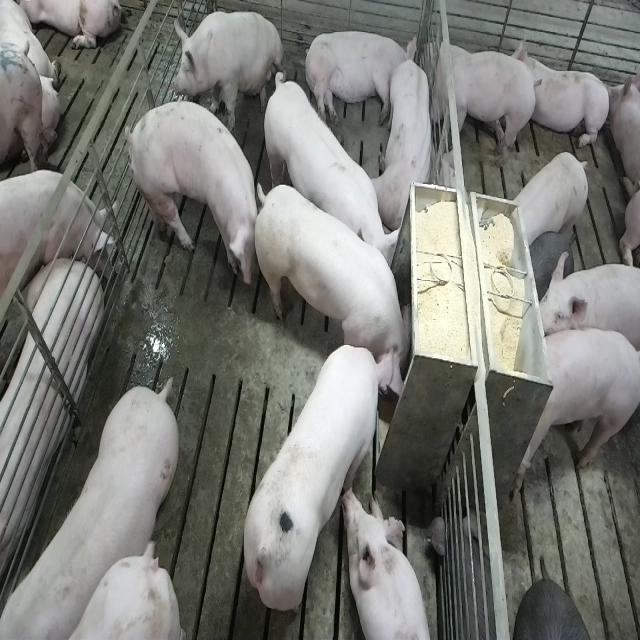Feeding: (241, 340, 391, 616), (258, 175, 420, 384)
Lateral_lying: (0, 255, 101, 604), (303, 28, 418, 128)
Sitting: (172, 8, 284, 128)
Standing: (5, 372, 184, 638), (260, 68, 398, 286), (120, 95, 257, 292), (509, 328, 638, 502), (420, 37, 540, 173), (0, 167, 120, 302), (530, 252, 636, 360), (508, 152, 590, 249)
Sternal_lying: (345, 487, 435, 640), (375, 54, 437, 232), (521, 31, 611, 152)
